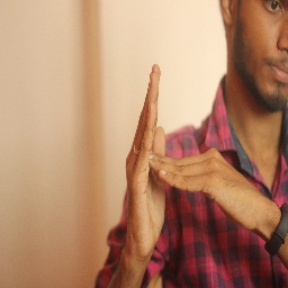Z: (118, 60, 248, 256)
